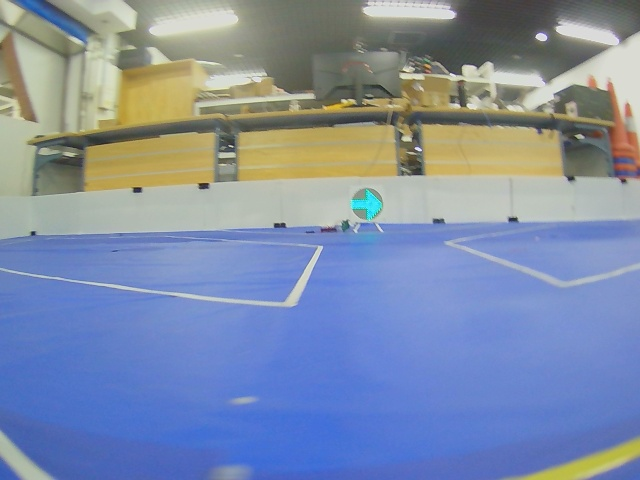right_green: (351, 188, 383, 221)
